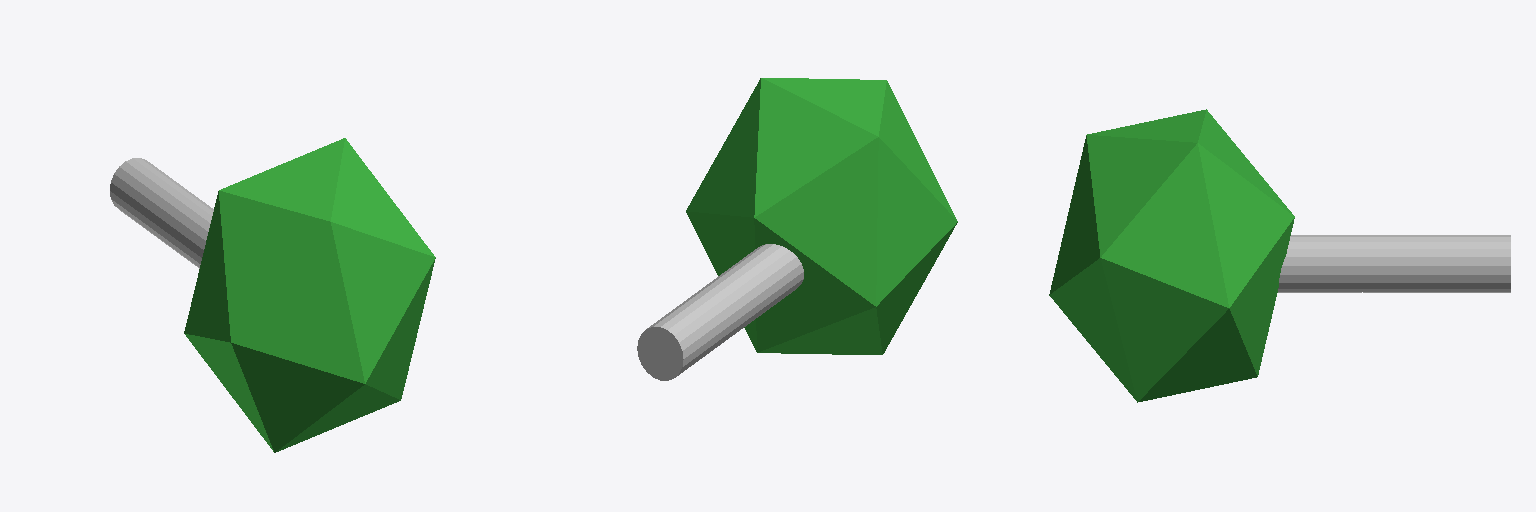
Rendered from tree.obj.
The picture shows the model from 3 angles: view 1: azimuth 30°, elevation 25°; view 2: azimuth 150°, elevation 25°; view 3: azimuth 270°, elevation 25°; orthographic projection.
Parts seen in each view (by area): view 1: obj_0; view 2: obj_0; view 3: obj_0.
Part boxes in pixels (x1,y1,x2,y2): obj_0: (110,138,435,452); obj_0: (637,78,957,380); obj_0: (1049,109,1510,402).
Bounding box in the file's own units: 92.7 × 113 × 172.